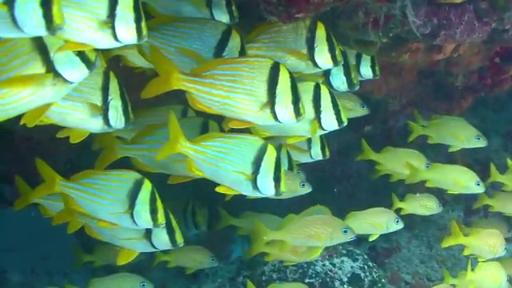Fish: (141, 46, 303, 127), (156, 113, 285, 196), (16, 159, 167, 228), (21, 67, 133, 143), (0, 36, 98, 120), (108, 17, 245, 72), (94, 121, 197, 183), (140, 18, 245, 72), (79, 212, 183, 264), (251, 83, 347, 137), (246, 19, 341, 73), (55, 0, 147, 50), (252, 215, 355, 251), (357, 140, 431, 181), (112, 105, 196, 139), (408, 116, 487, 151), (441, 220, 507, 260), (0, 0, 64, 38), (405, 164, 485, 193), (142, 0, 238, 23), (15, 176, 64, 217), (344, 208, 403, 241), (247, 170, 312, 199), (164, 199, 210, 239), (155, 246, 218, 274), (217, 208, 283, 234), (252, 240, 323, 264), (322, 49, 359, 91), (466, 260, 510, 287), (286, 136, 329, 163), (461, 215, 511, 238), (392, 193, 443, 215), (344, 48, 379, 79), (74, 243, 119, 267), (87, 272, 154, 287), (335, 92, 370, 119), (473, 192, 511, 215), (488, 159, 511, 191), (442, 266, 466, 287), (497, 258, 511, 276), (268, 282, 307, 287)
